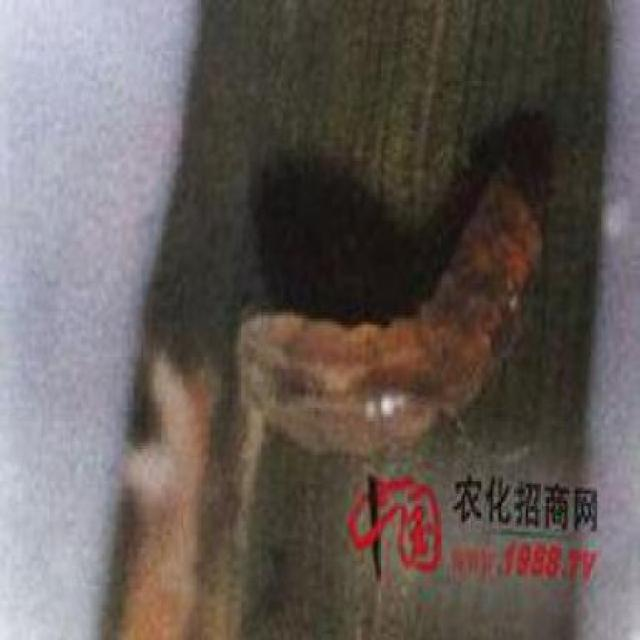whorl-maggot: (240, 153, 556, 468)
